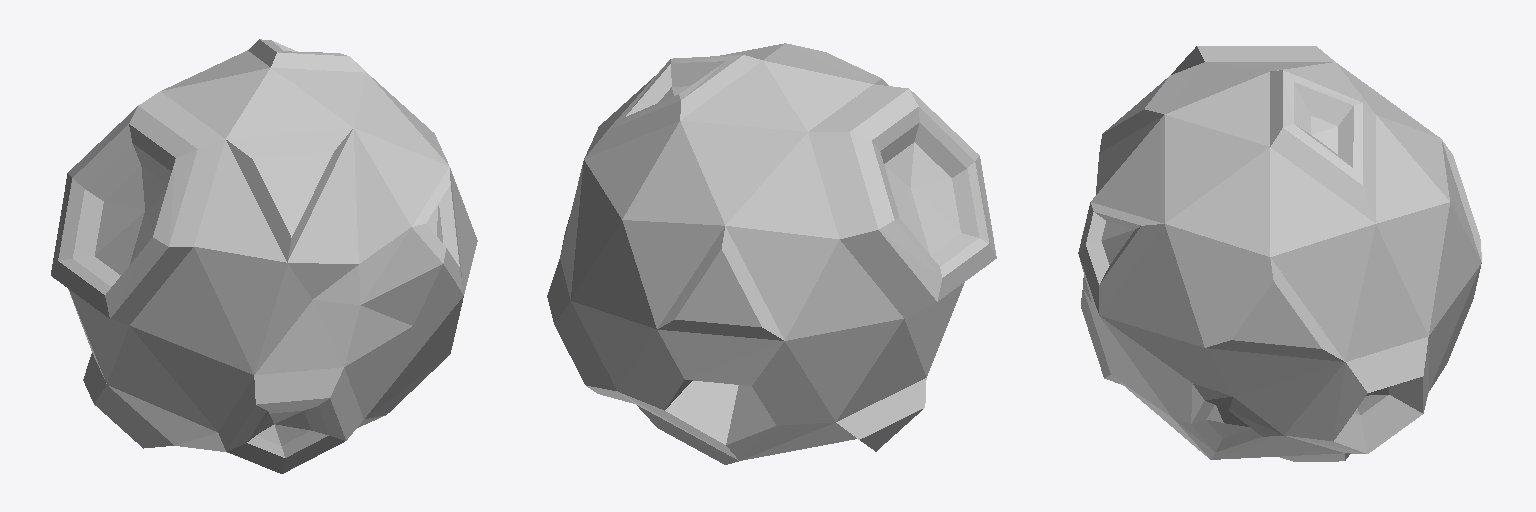
Rendered from BigAsteroid.obj.
3 views of the same model, side by side, from view 1: azimuth 30°, elevation 25°; view 2: azimuth 150°, elevation 25°; view 3: azimuth 270°, elevation 25° (orthographic).
Visible parts, largest first — view 1: meteoro_grande_Icosphere.001; view 2: meteoro_grande_Icosphere.001; view 3: meteoro_grande_Icosphere.001.
Boxes of the visible parts, <box> form: meteoro_grande_Icosphere.001: <box>51,39,477,473</box>; meteoro_grande_Icosphere.001: <box>547,43,996,464</box>; meteoro_grande_Icosphere.001: <box>1078,46,1481,461</box>.
Size of the model in its own units: 9.47 by 9.51 by 8.83.